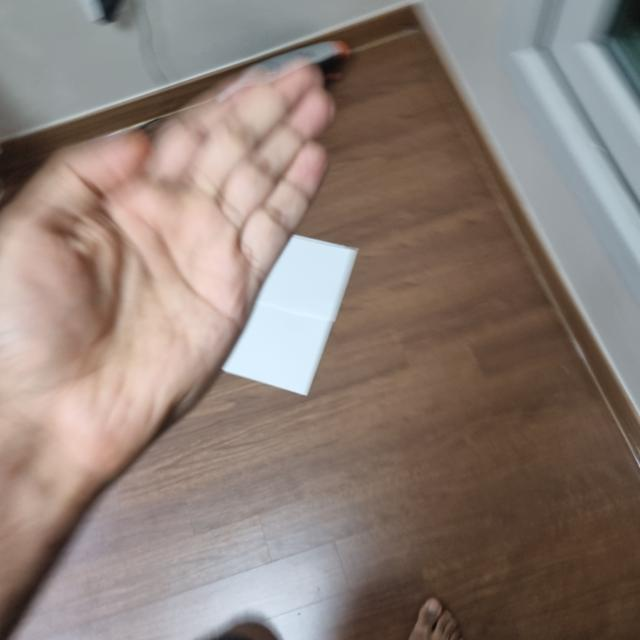Paper: (0, 72, 337, 468)
